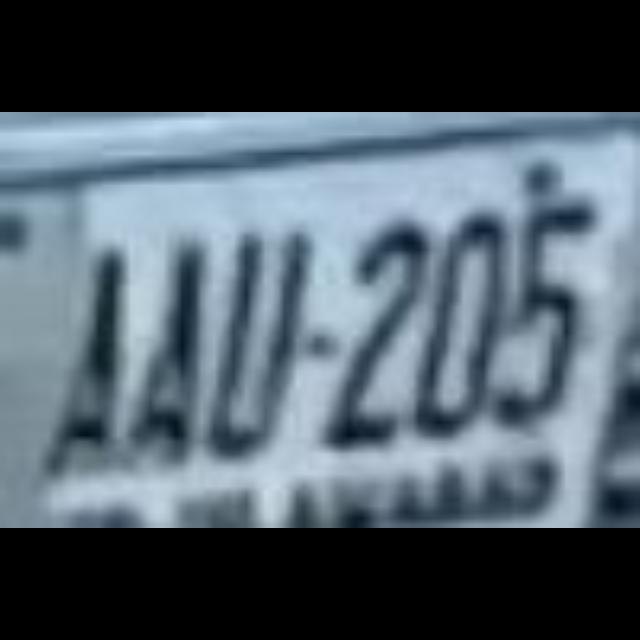0: (432, 195, 508, 457)
2: (352, 195, 428, 457)
5: (512, 195, 588, 457)
A: (32, 195, 108, 457), (112, 195, 188, 457)
U: (192, 195, 268, 457)
